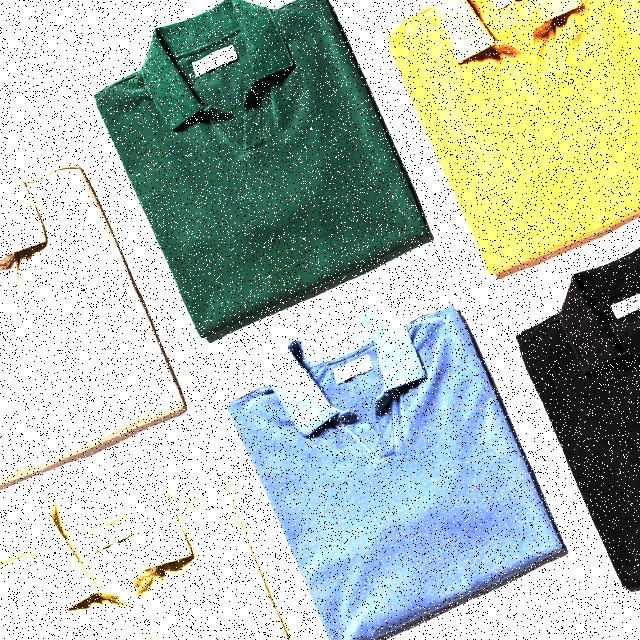Blouse_deep: (199, 288, 576, 637), (74, 3, 454, 340)
